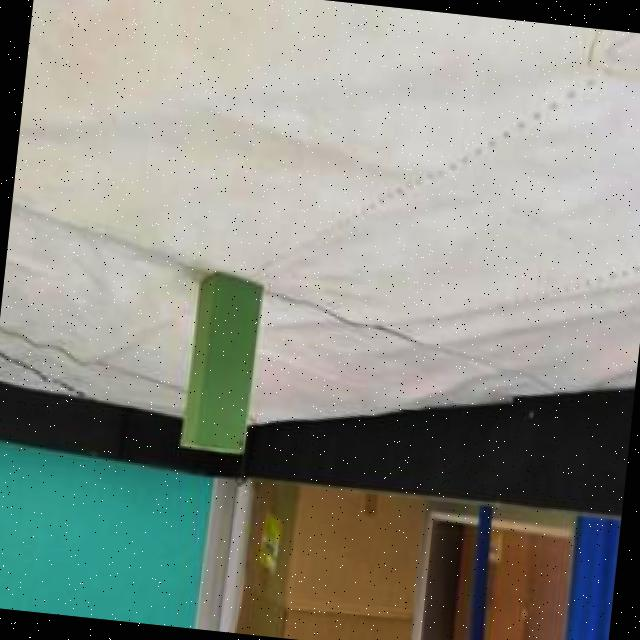greenbox: (176, 266, 266, 458)
